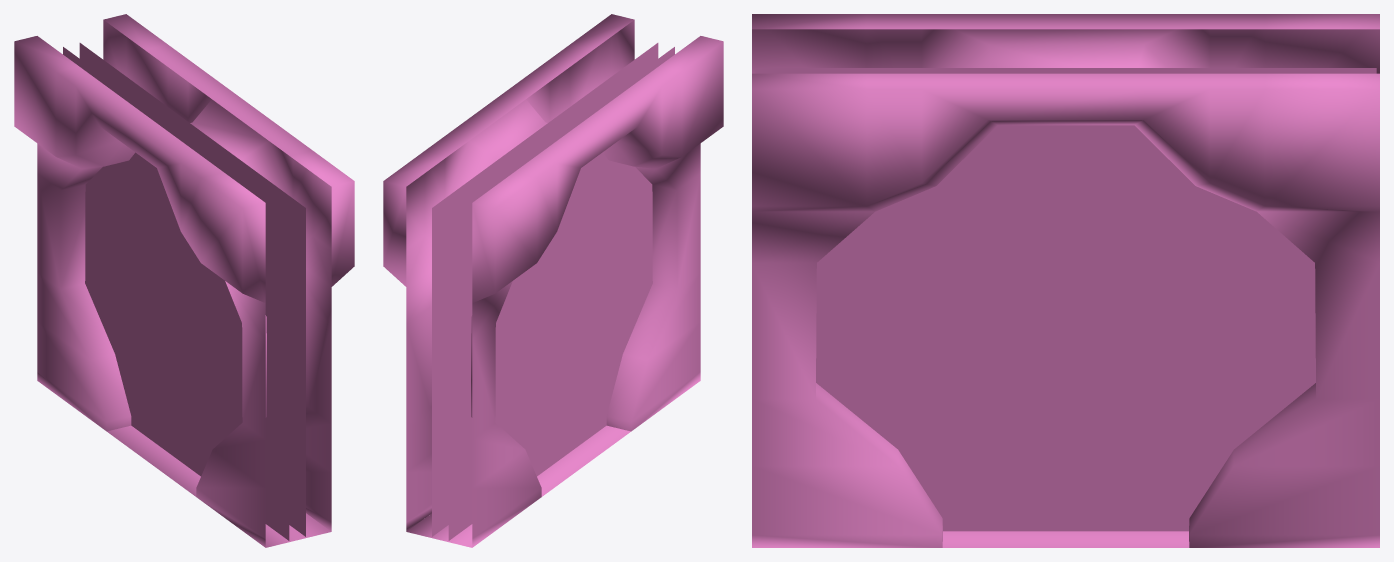
The model's file is CollisionMesh_HallDoor.fbx.
3 views of the same model, side by side, from view 1: azimuth 30°, elevation 25°; view 2: azimuth 150°, elevation 25°; view 3: azimuth 270°, elevation 25° (orthographic). The views are drawn at different scales.
Parts seen in each view (by area): view 1: Collision_HallDoorway, Collision_HallDoor; view 2: Collision_HallDoorway, Collision_HallDoor; view 3: Collision_HallDoorway, Collision_HallDoor.
Part boxes in pixels (x1,y1,x2,y2): Collision_HallDoorway: (14,14,354,547); Collision_HallDoor: (63,43,305,540); Collision_HallDoorway: (383,14,723,547); Collision_HallDoor: (432,43,674,540); Collision_HallDoorway: (752,14,1379,547); Collision_HallDoor: (755,68,1376,531).
Size of the model in its own units: 1.7 by 5.01 by 6.
